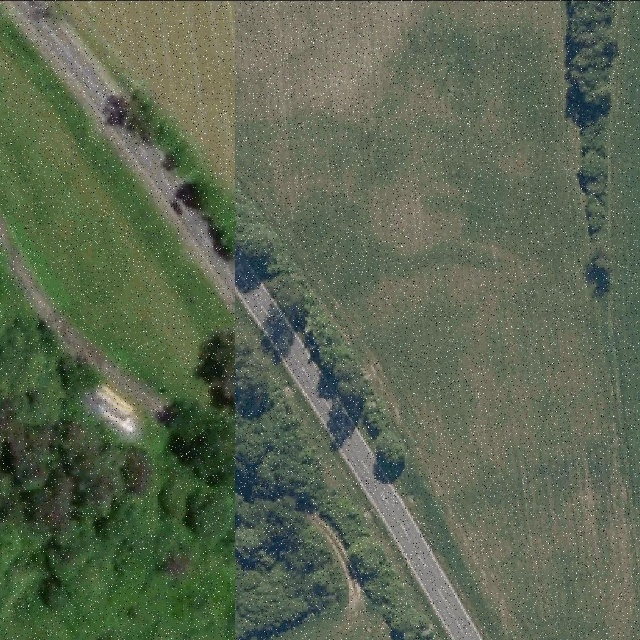vegetation: (0, 312, 441, 640), (123, 83, 410, 474), (567, 0, 621, 282)
